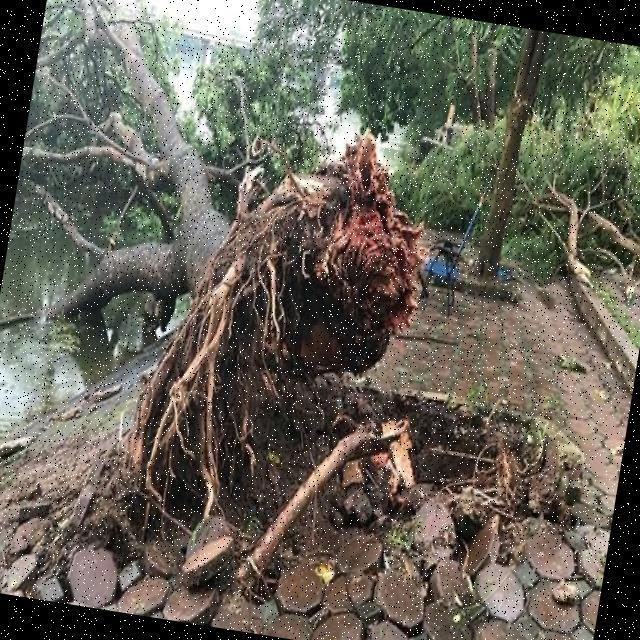fallen_object: (0, 0, 503, 516), (504, 127, 640, 337)
